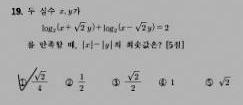choice: (17, 74, 29, 91)
not-choice: (64, 77, 75, 87), (110, 77, 121, 87), (157, 77, 167, 87), (204, 77, 214, 87)
